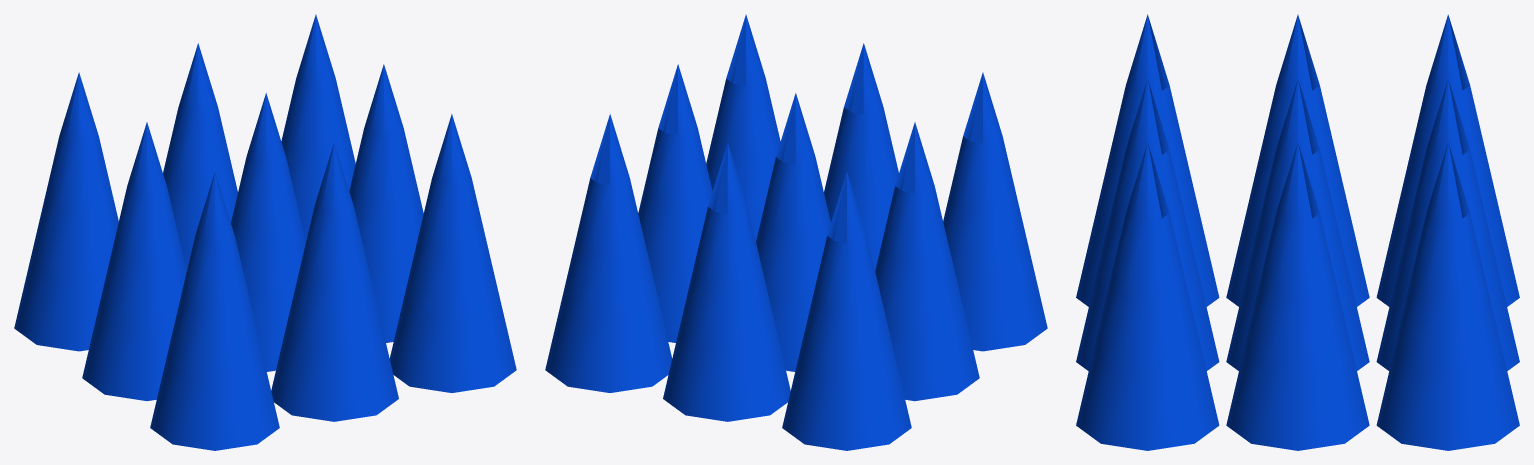
The model's file is Pinchos.fbx.
The picture shows the model from 3 angles, left to right: view 1: azimuth 30°, elevation 25°; view 2: azimuth 150°, elevation 25°; view 3: azimuth 270°, elevation 25°; orthographic projection. The views are drawn at different scales.
Visible parts, largest first — view 1: Pinchos; view 2: Pinchos; view 3: Pinchos.
Part boxes in pixels (<box>): Pinchos: <box>14,14,516,450</box>; Pinchos: <box>545,14,1047,450</box>; Pinchos: <box>1076,14,1519,450</box>.
Size of the model in its own units: 1.18 by 0.8192 by 1.18.
